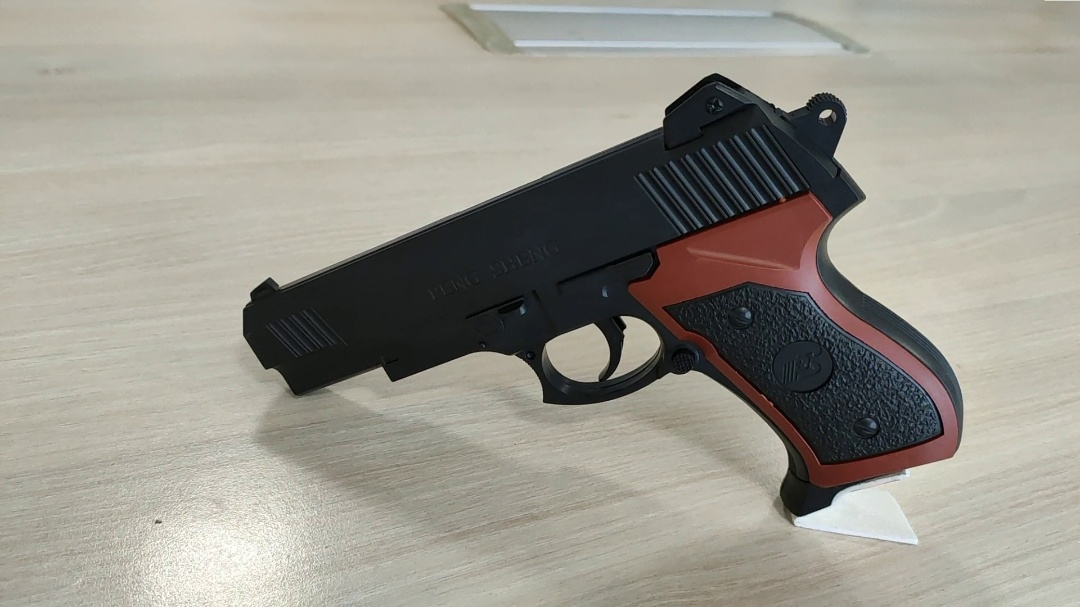gun: (558, 174, 673, 309)
